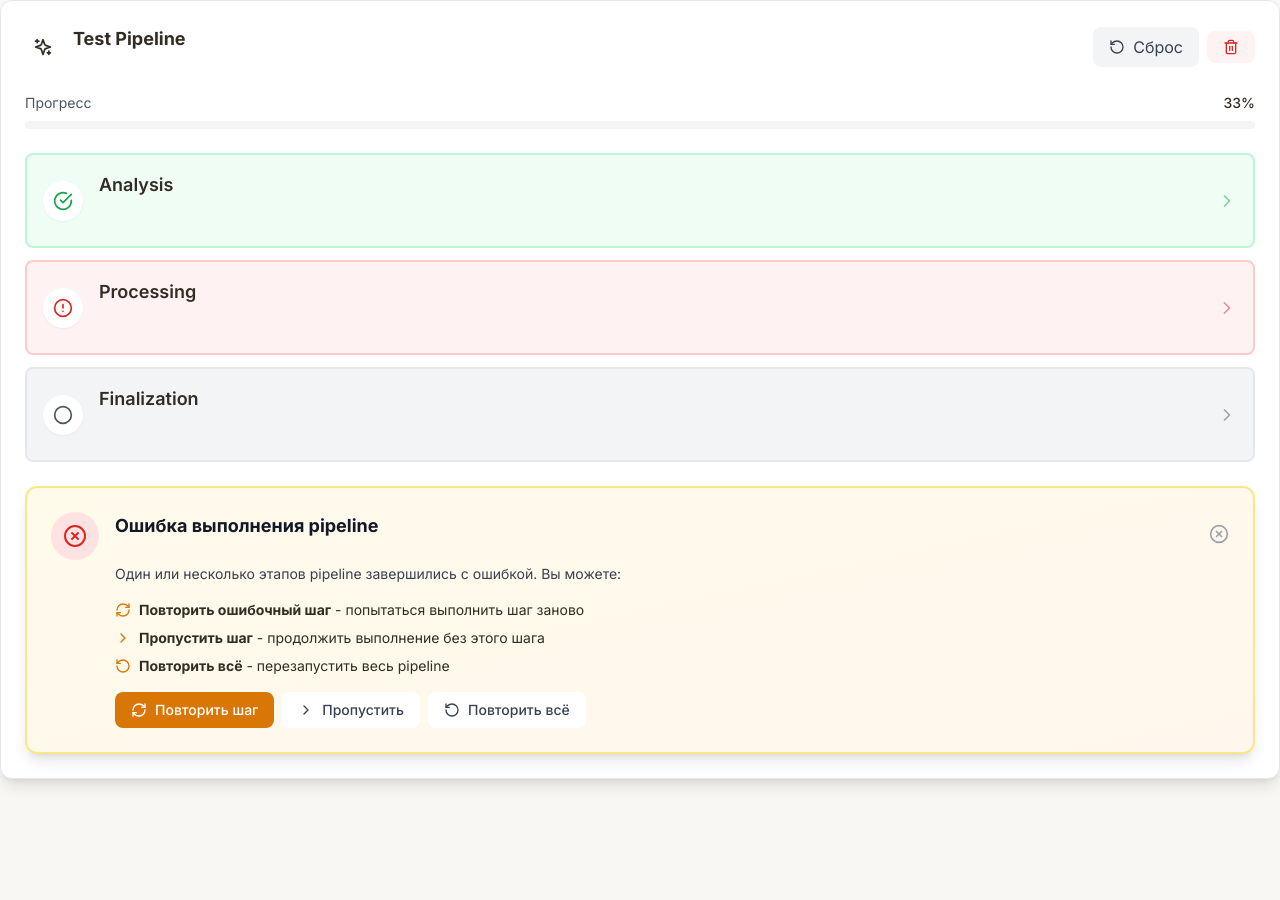
Scenario: PipelineVisualizer Stress Tests - Error Recovery › Retry Step Action › должен показывать счетчик попыток повтора
What coordinates should you click on to do the following:
click the button "Повторить шаг"
I would click on:
 (195, 710)
Its box is [115,692,274,728].
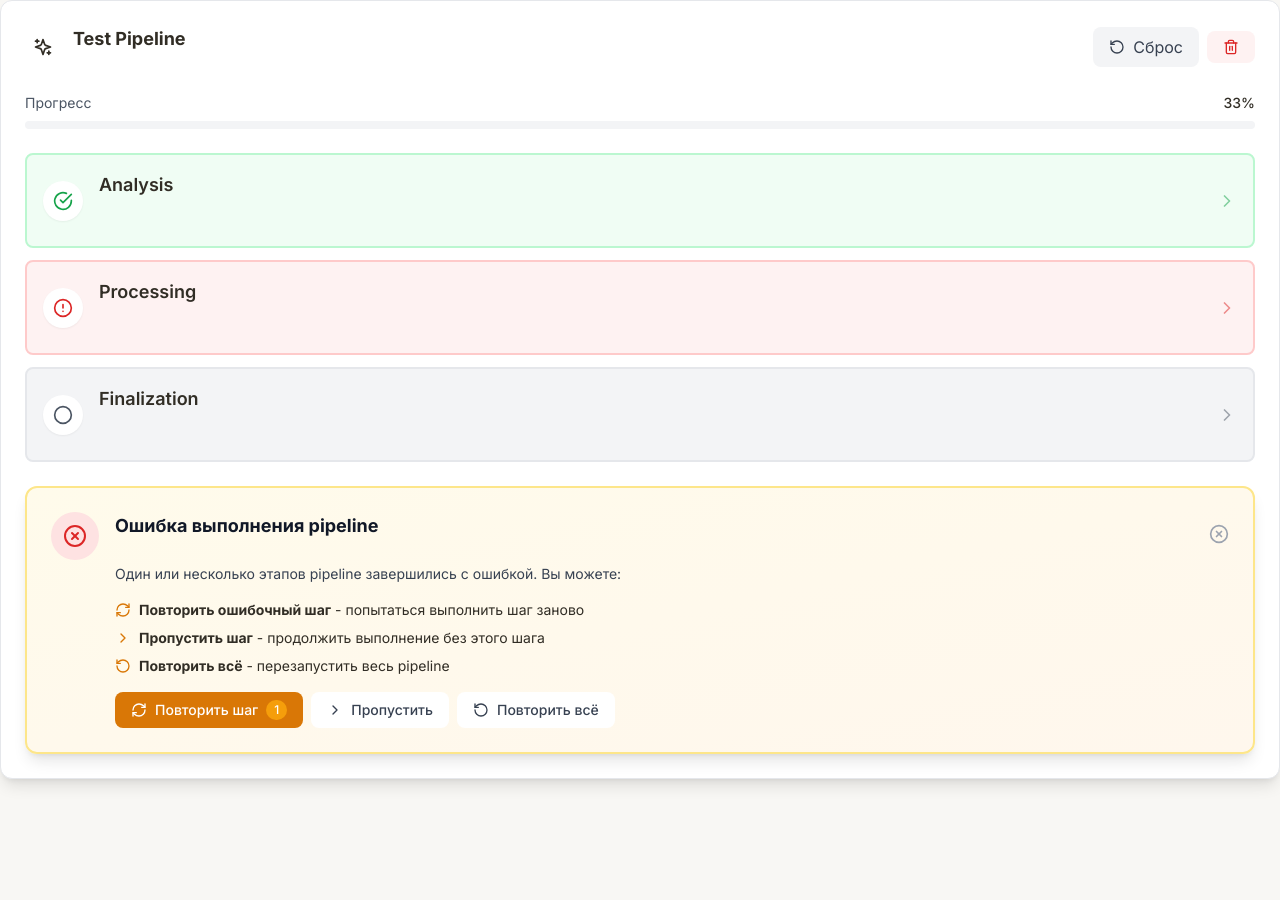
Check: the text "1" is shown, box [266,700,287,720]
